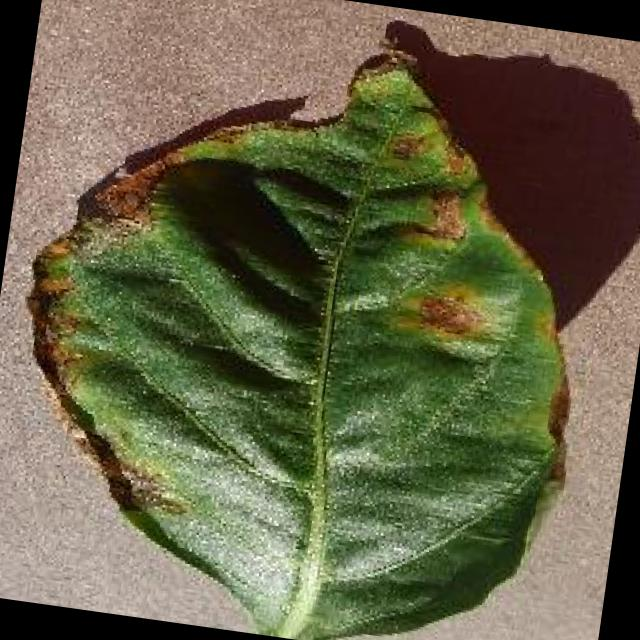Chilli_Bacterial_Spot: (0, 0, 624, 640), (382, 270, 512, 366), (408, 283, 491, 345), (418, 183, 474, 244), (382, 125, 432, 168)
